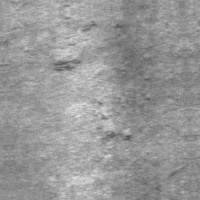rolled-in_scale: (95, 69, 153, 145), (50, 18, 102, 73)
